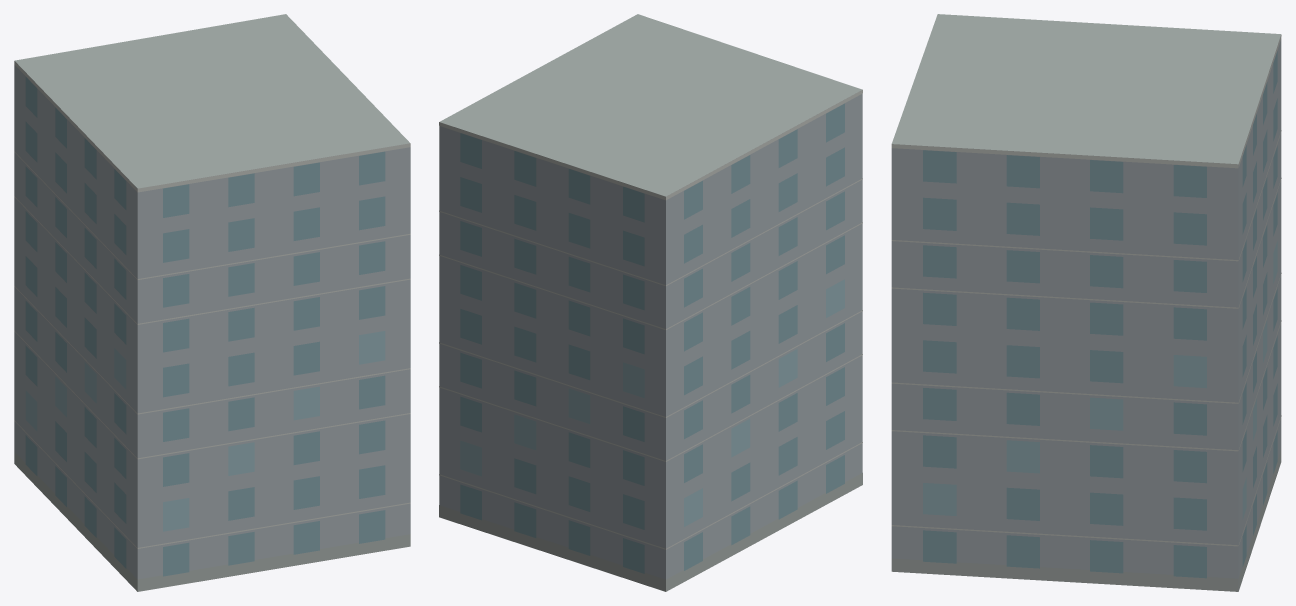
The model's file is survey-upis-32976122.glb.
3 views of the same model, side by side, from view 1: azimuth 30°, elevation 25°; view 2: azimuth 150°, elevation 25°; view 3: azimuth 270°, elevation 25° (orthographic). The views are drawn at different scales.
Visible parts, largest first — view 1: survey-upis-32976122.tmp; view 2: survey-upis-32976122.tmp; view 3: survey-upis-32976122.tmp.
Boxes of the visible parts, x1,y1,x2,y2 form: survey-upis-32976122.tmp: [14, 14, 410, 591]; survey-upis-32976122.tmp: [439, 14, 862, 591]; survey-upis-32976122.tmp: [891, 14, 1281, 591].
Bounding box in the file's own units: 19.08 × 25.3 × 20.92.
